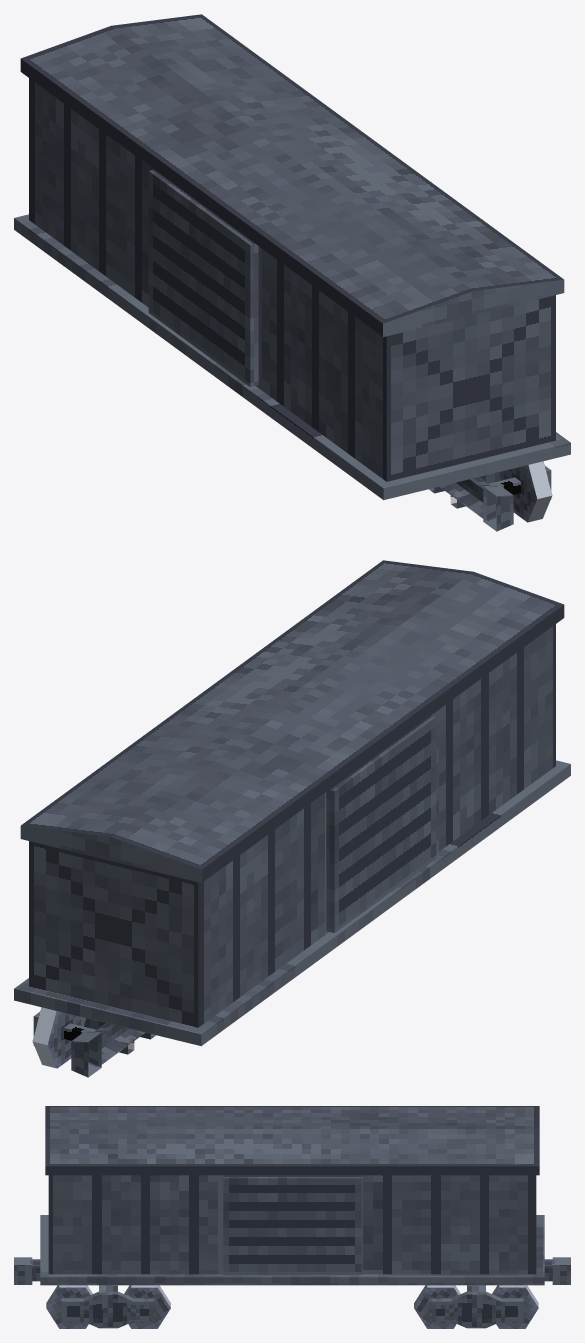
File: box-car.blend.glb
3 renders of one model, top to bottom at view 1: azimuth 30°, elevation 25°; view 2: azimuth 150°, elevation 25°; view 3: azimuth 270°, elevation 25°, orthographic. The views are drawn at different scales.
Parts seen in each view (by area): view 1: boxcar, boxcar-front-truck; view 2: boxcar, boxcar-back-truck; view 3: boxcar, boxcar-back-truck, boxcar-front-truck.
Part boxes in pixels (left/top/right/bottom): boxcar: left=14, top=14, right=570, bottom=500; boxcar-front-truck: left=429, top=461, right=552, bottom=531; boxcar: left=14, top=560, right=570, bottom=1046; boxcar-back-truck: left=32, top=1007, right=155, bottom=1077; boxcar: left=40, top=1106, right=544, bottom=1285; boxcar-back-truck: left=414, top=1257, right=570, bottom=1328; boxcar-front-truck: left=14, top=1257, right=170, bottom=1328.
Size of the model in its own units: 1.6 by 2.08 by 6.05.
2 materials, 2 textured.
